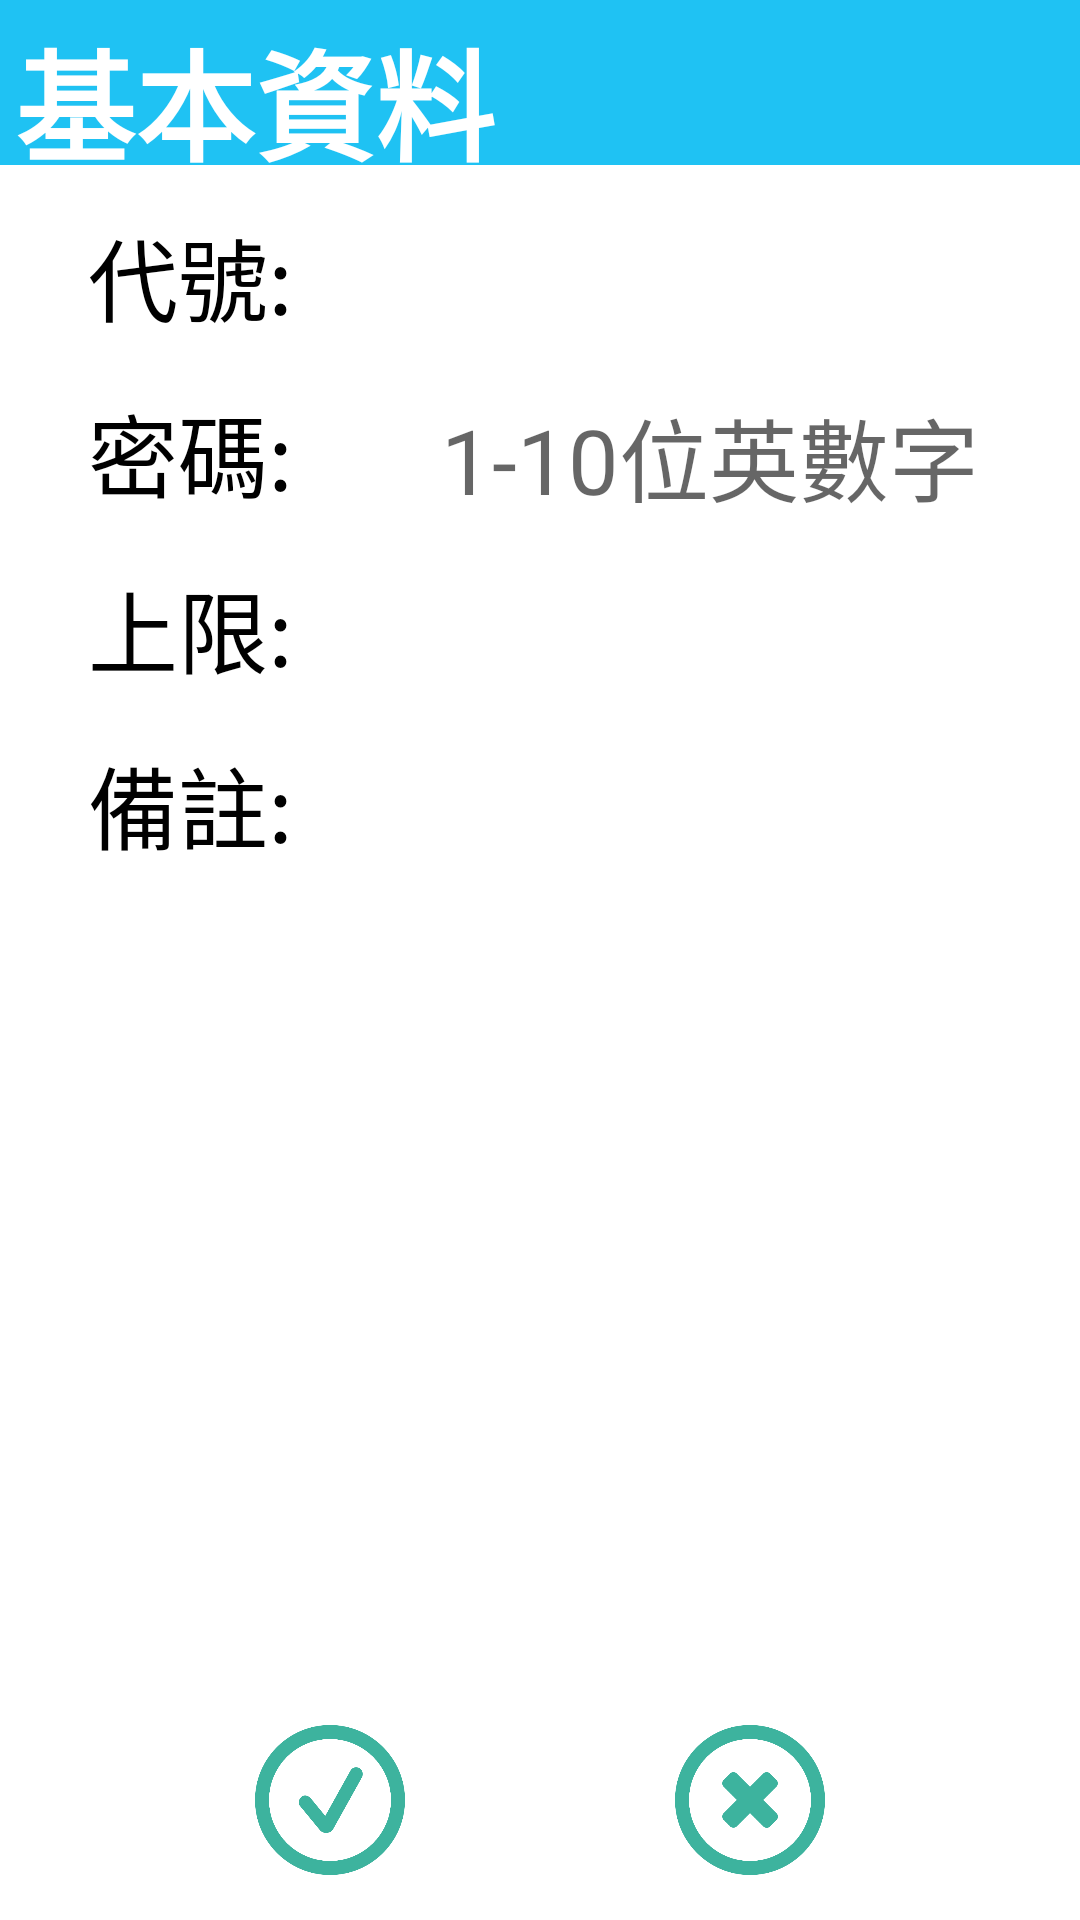

Where to tap for icons on this 1080 × 1920 app screen, as [x,y]:
checked: [330,1800]
multiply: [750,1800]
